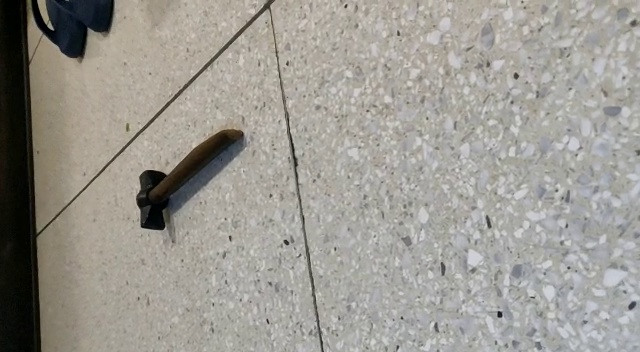hammer: (134, 127, 244, 234)
